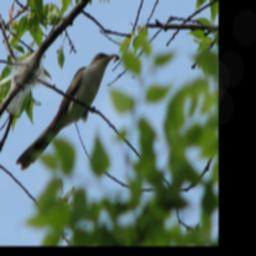Cuckoo: (15, 50, 118, 167)
